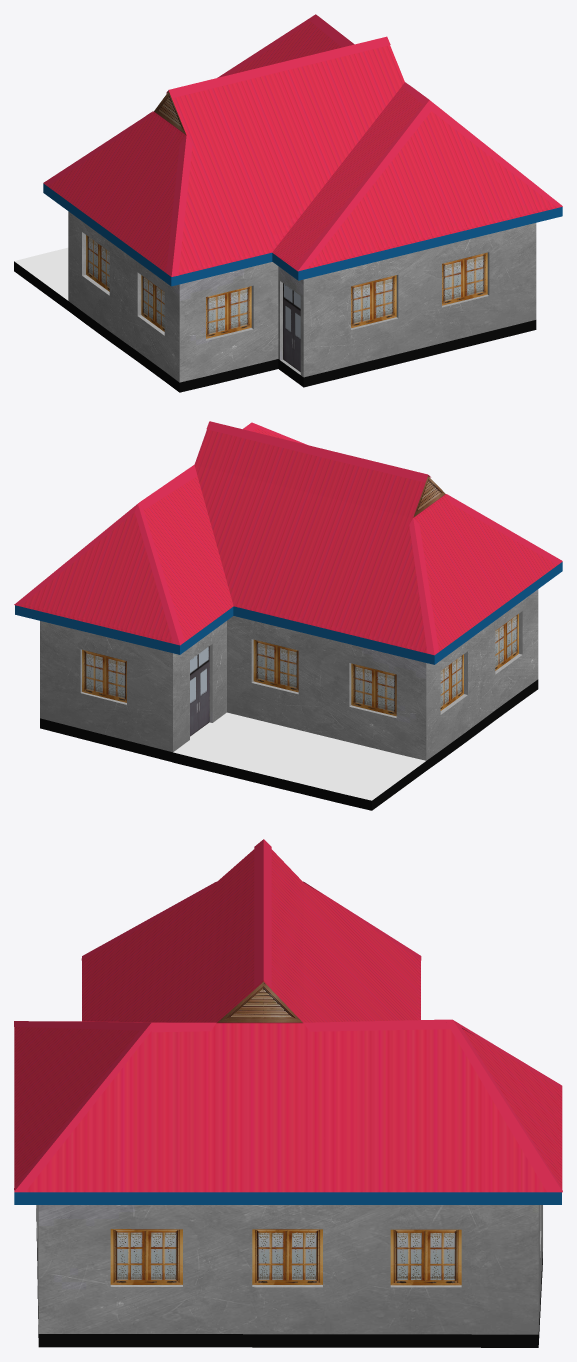
The model's file is House5.fbx.
3 views of the same model, one above another, from view 1: azimuth 30°, elevation 25°; view 2: azimuth 150°, elevation 25°; view 3: azimuth 270°, elevation 25° (orthographic). The views are drawn at different scales.
Parts seen in each view (by area): view 1: House; view 2: House; view 3: House.
Part boxes in pixels (x1,y1,x2,y2): House: [14, 14, 562, 392]; House: [14, 421, 562, 810]; House: [14, 839, 562, 1347].
Bounding box in the file's own units: 476 × 306 × 467.
1 material, 1 textured.
